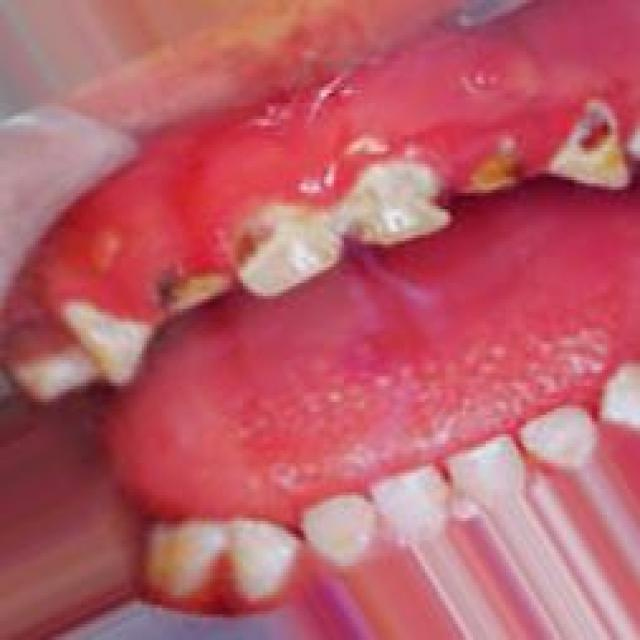caries: (228, 205, 342, 292), (347, 163, 455, 250), (554, 96, 634, 202), (153, 262, 239, 321), (460, 136, 527, 201)
